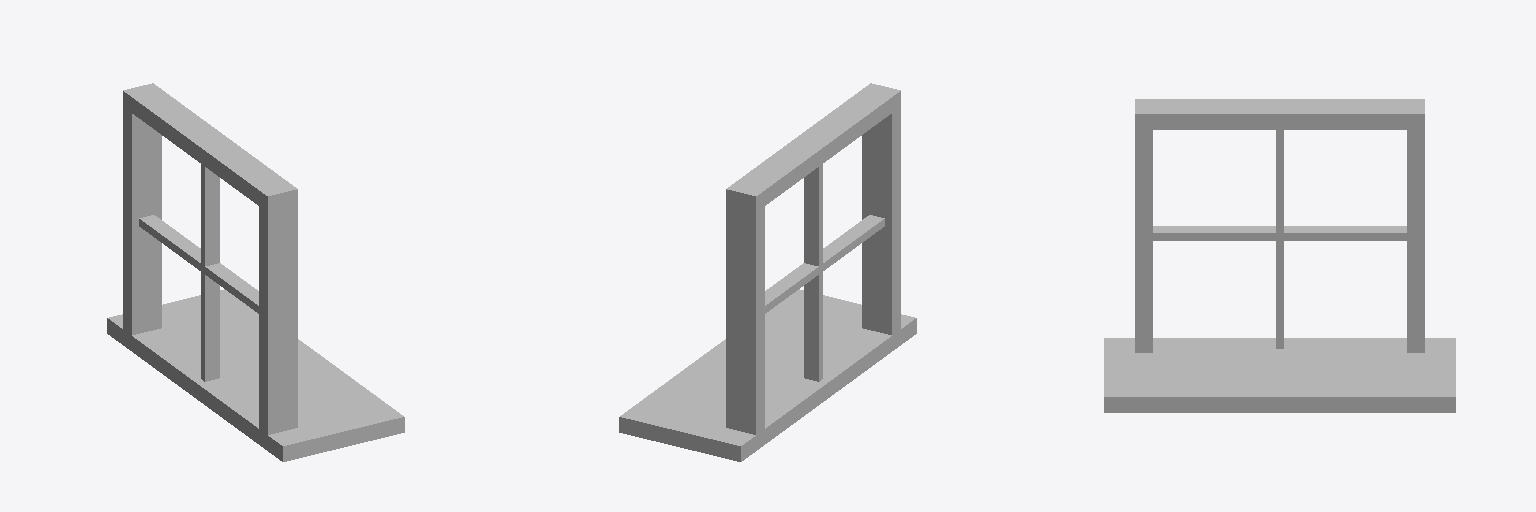
The model's file is window.obj.
3 renders of one model, left to right at view 1: azimuth 30°, elevation 25°; view 2: azimuth 150°, elevation 25°; view 3: azimuth 270°, elevation 25°, orthographic.
Visible parts, largest first — view 1: Cube.006; view 2: Cube.006; view 3: Cube.006.
Boxes of the visible parts, <box> form: Cube.006: <box>107,83,404,461</box>; Cube.006: <box>619,83,916,461</box>; Cube.006: <box>1104,99,1455,412</box>.
Bounding box in the file's own units: 4 × 8 × 10.